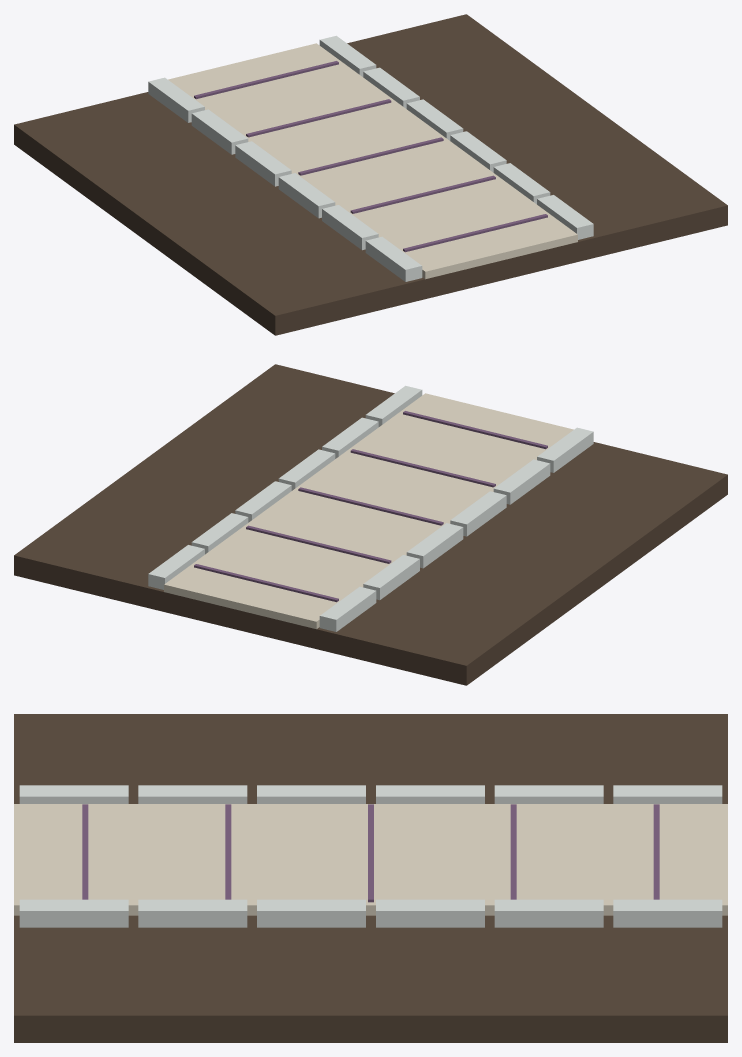
File: ground_path.glb
3 views of the same model, one above another, from view 1: azimuth 30°, elevation 25°; view 2: azimuth 150°, elevation 25°; view 3: azimuth 270°, elevation 25° (orthographic). The views are drawn at different scales.
Parts seen in each view (by area): view 1: ground_path soil, ground_path mist, ground_path plaster, ground_path patina; view 2: ground_path soil, ground_path mist, ground_path plaster, ground_path patina; view 3: ground_path soil, ground_path mist, ground_path plaster, ground_path patina.
Part boxes in pixels (x1=…): ground_path soil: x1=14, y1=14, x2=727, y2=335; ground_path mist: x1=168, y1=43, x2=577, y2=279; ground_path plaster: x1=148, y1=35, x2=593, y2=281; ground_path patina: x1=194, y1=61, x2=547, y2=252; ground_path soil: x1=14, y1=364, x2=727, y2=685; ground_path mist: x1=164, y1=393, x2=573, y2=629; ground_path plaster: x1=148, y1=385, x2=593, y2=631; ground_path patina: x1=194, y1=411, x2=547, y2=602; ground_path soil: x1=14, y1=714, x2=727, y2=1042; ground_path mist: x1=14, y1=804, x2=727, y2=915; ground_path plaster: x1=19, y1=785, x2=722, y2=927; ground_path patina: x1=82, y1=804, x2=659, y2=902.
Bounding box in the file's own units: 0.95 × 0.0645 × 0.95.
